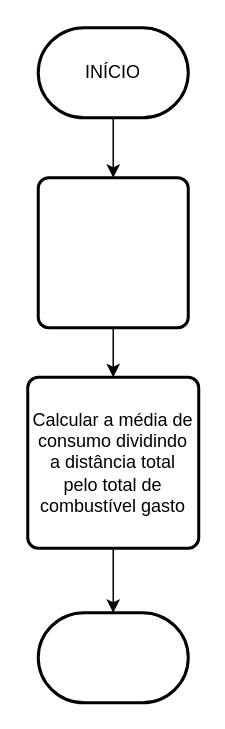
Image size: 225x729. Some labels were removed from this diagram. Each missing label, with the centre of its shape:
"FIM" goes at pixel 112 657.
"Recebe a distância total percorrida e o total de combustível gasto" goes at pixel 112 252.
